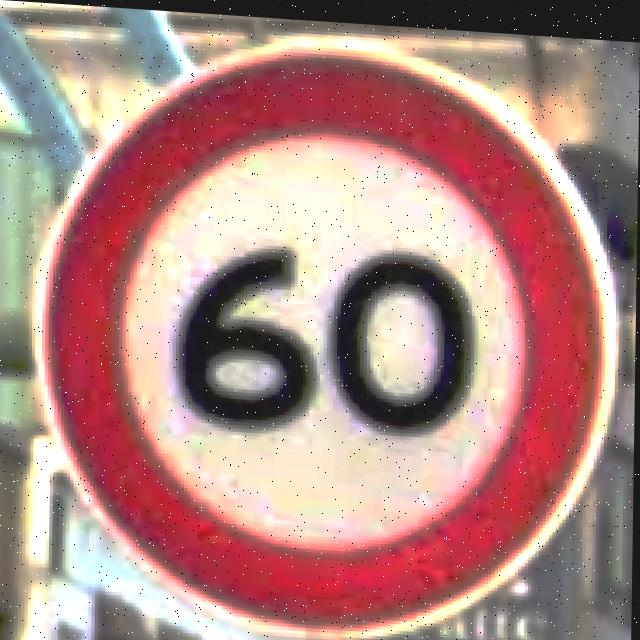max60: (23, 18, 626, 640)
